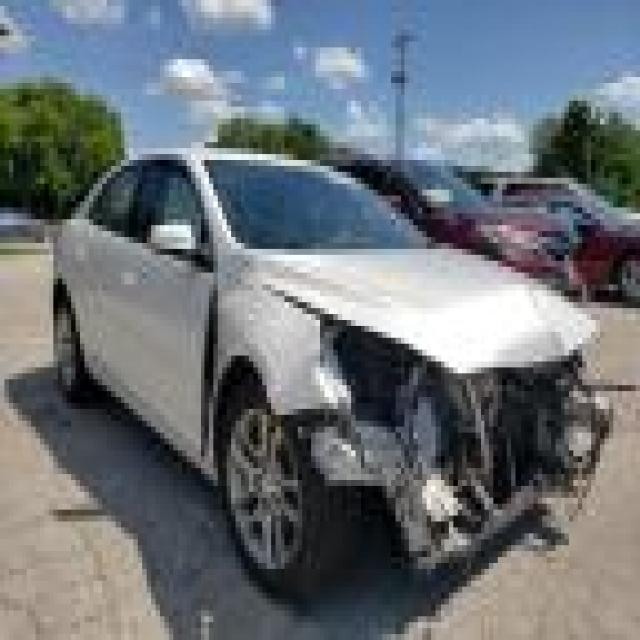severe: (223, 247, 640, 561)
